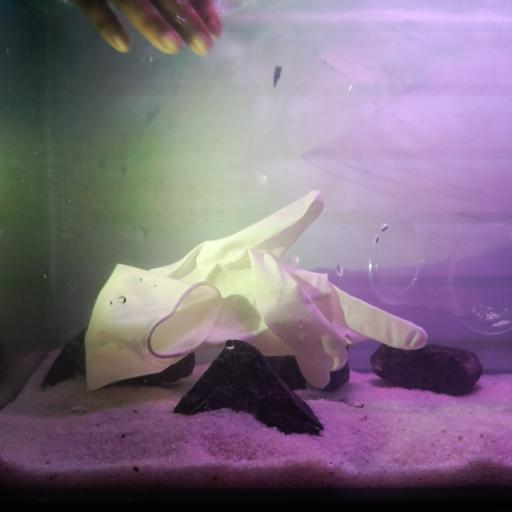glove: (83, 190, 428, 394)
plastic_cup: (370, 218, 512, 337)
